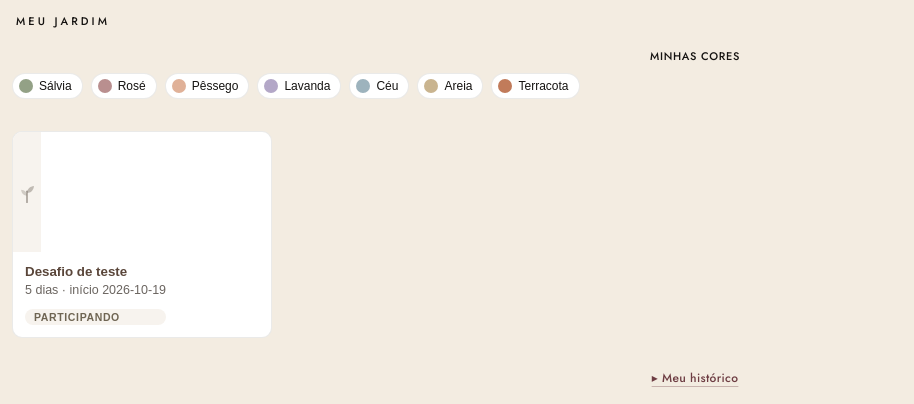
Test: GardenMemberView — carregamento de atividades (useGardenMember mockado, sem Supabase) › mostra mensagem de erro explícita quando daysError está preenchido, nunca como lista vazia
Click the text "Desafio de teste" at (76,272), box [25,264,127,279]
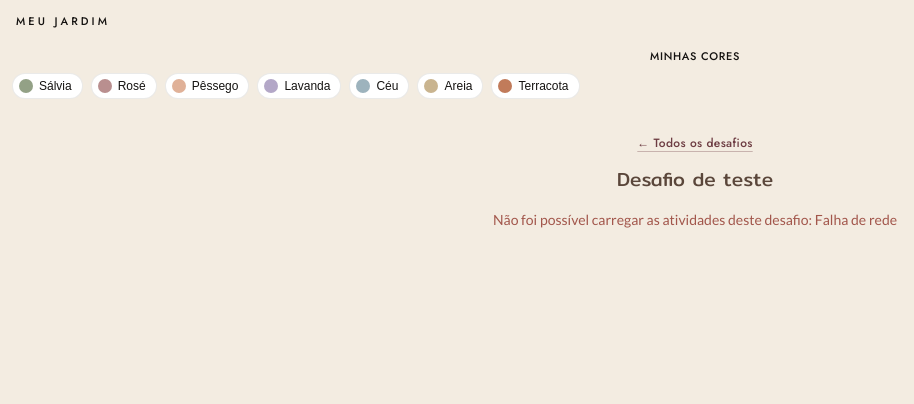
Expected: the text "Não foi possível carregar as atividades deste desafio: Falha de rede" is shown, [493,211,897,228]
